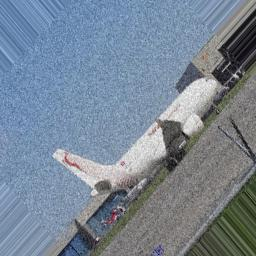Airplane: (49, 77, 222, 199)
